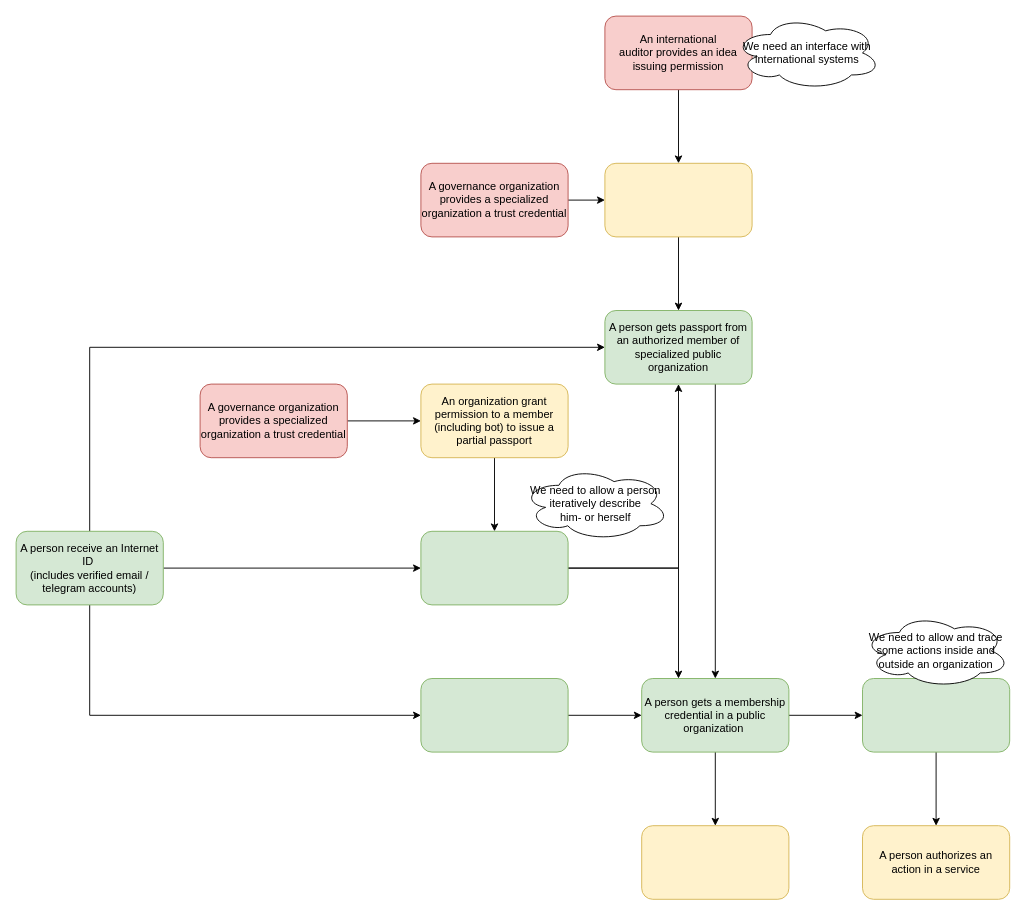
Image size: 1026x915. Some labels were removed from this diagram. Each missing label, with the centre of its shape:
"A person authenticates in a Public organization hub" goes at [494,715].
"A person authenticates in a service" goes at [715,862].
"A person gets a permission credential in an organization" goes at [936,715].
"A person gets partial Passport from a dedicated public organization" goes at [494,567].
"An organization grant permission to a member to issue a passport" goes at [678,199].
